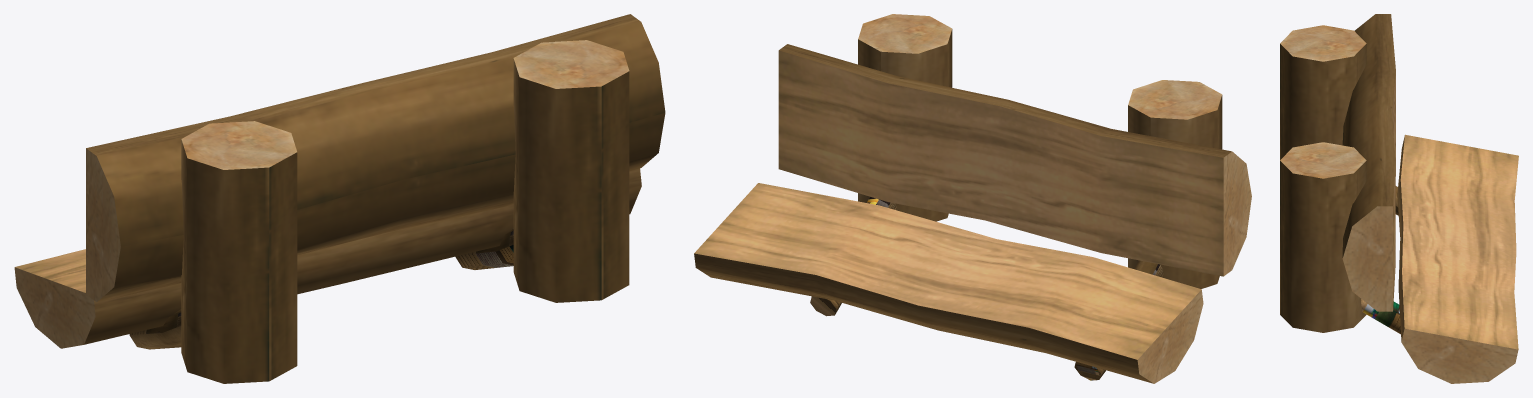
The model's file is Bench_B.fbx.
3 renders of one model, left to right at view 1: azimuth 30°, elevation 25°; view 2: azimuth 150°, elevation 25°; view 3: azimuth 270°, elevation 25°, orthographic. The views are drawn at different scales.
Visible parts, largest first — view 1: Bench_B; view 2: Bench_B; view 3: Bench_B.
Boxes of the visible parts, x1,y1,x2,y2 form: Bench_B: [14, 14, 665, 383]; Bench_B: [694, 14, 1251, 383]; Bench_B: [1280, 14, 1518, 383].
Bounding box in the file's own units: 50.03 × 23.48 × 25.49.
